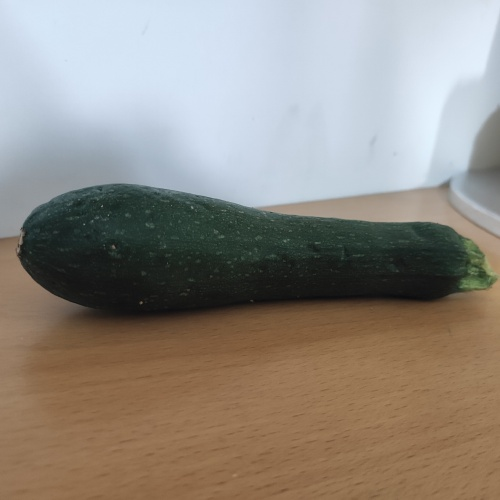zucchine: (14, 177, 492, 328)
